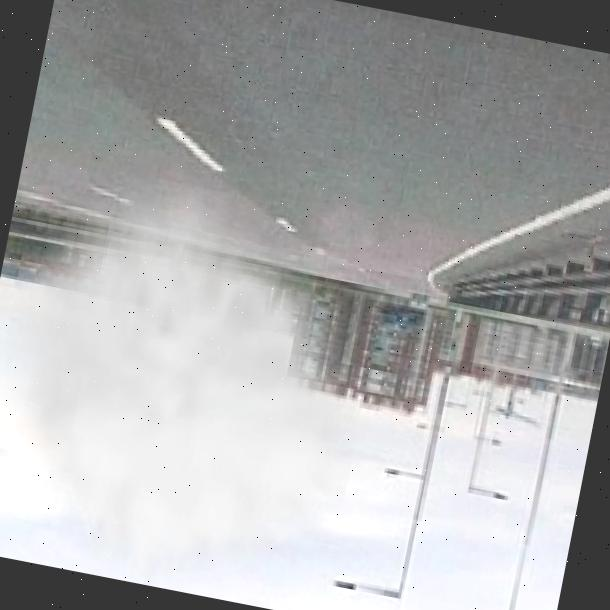smoke: (0, 156, 397, 610)
